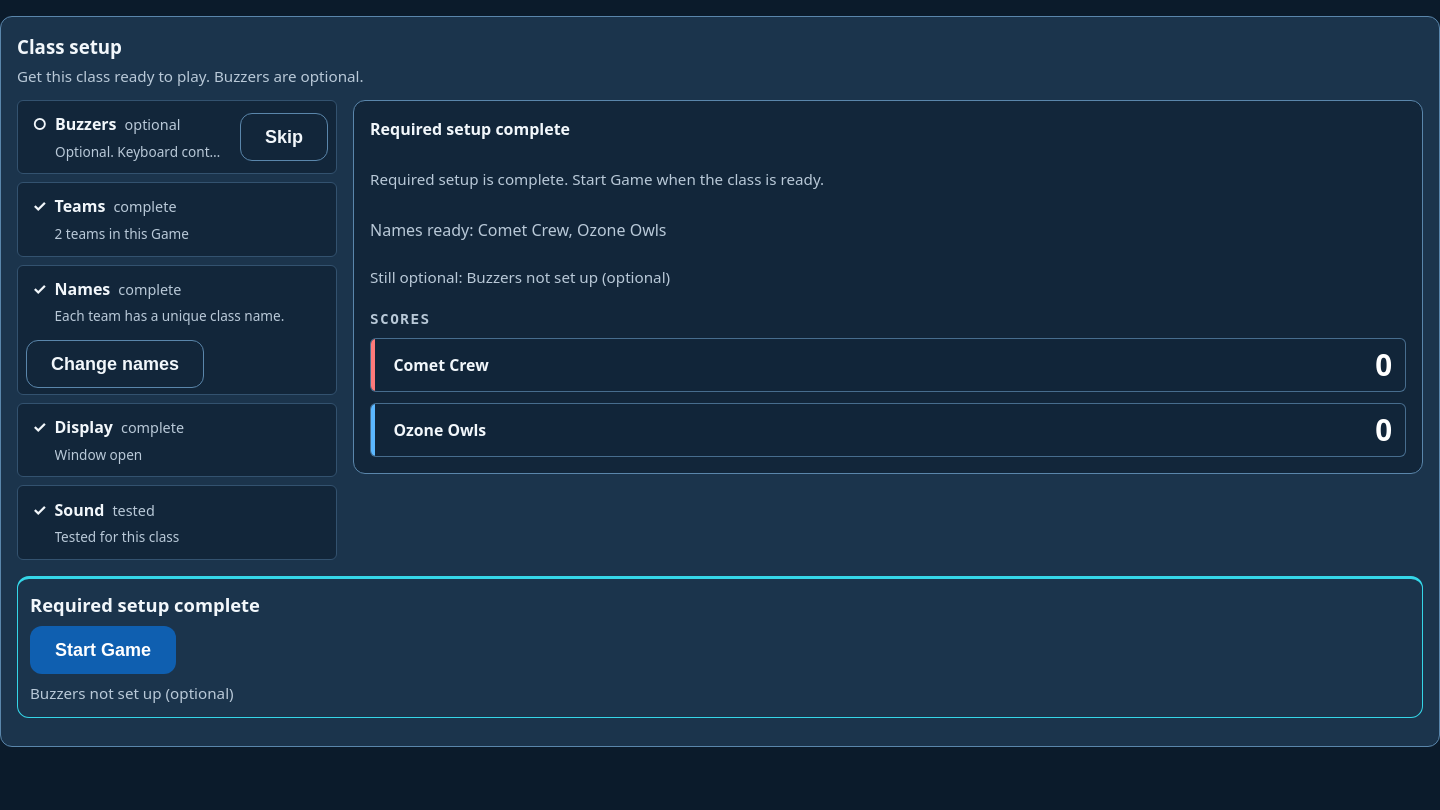
it: ClassroomSetupPanel › compacts completed names and lets the teacher revisit them
expect the text with test id "setup-names-summary" shows "Comet Crew": met, box x1=478 y1=219 x2=666 y2=241
What coordinates should you click on to do the following:
click the button with test id "setup-revisit-names"
I would click on:
 (115, 364)
Its box is x1=26 y1=340 x2=204 y2=388.
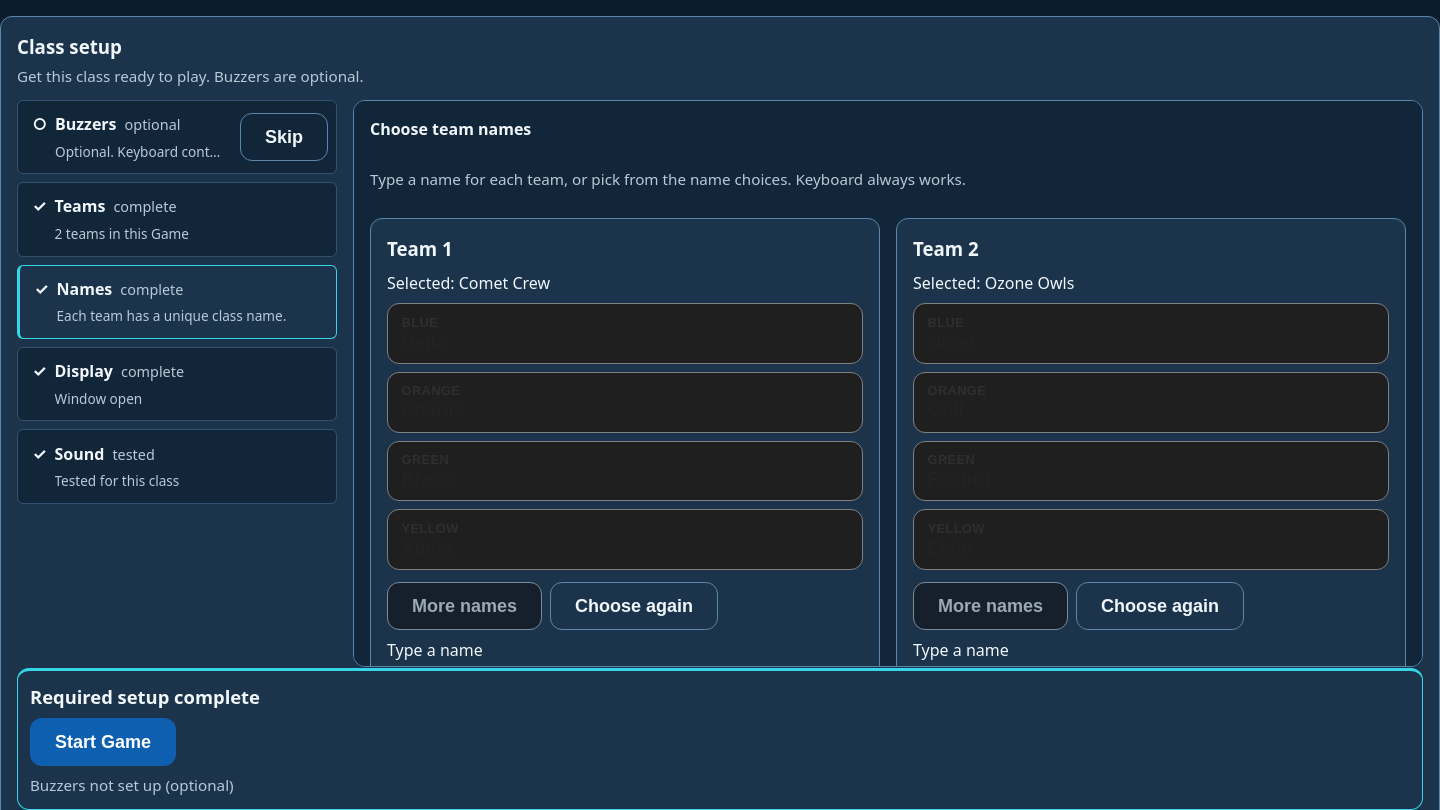
expect the element with test id "team-name-selection-board" is shown: met, box x1=370 y1=218 x2=1406 y2=667
